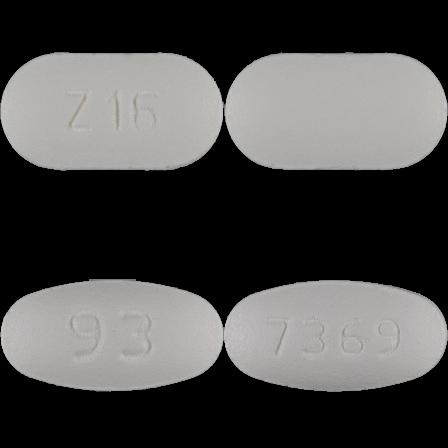35356-779: (0, 0, 224, 224)
